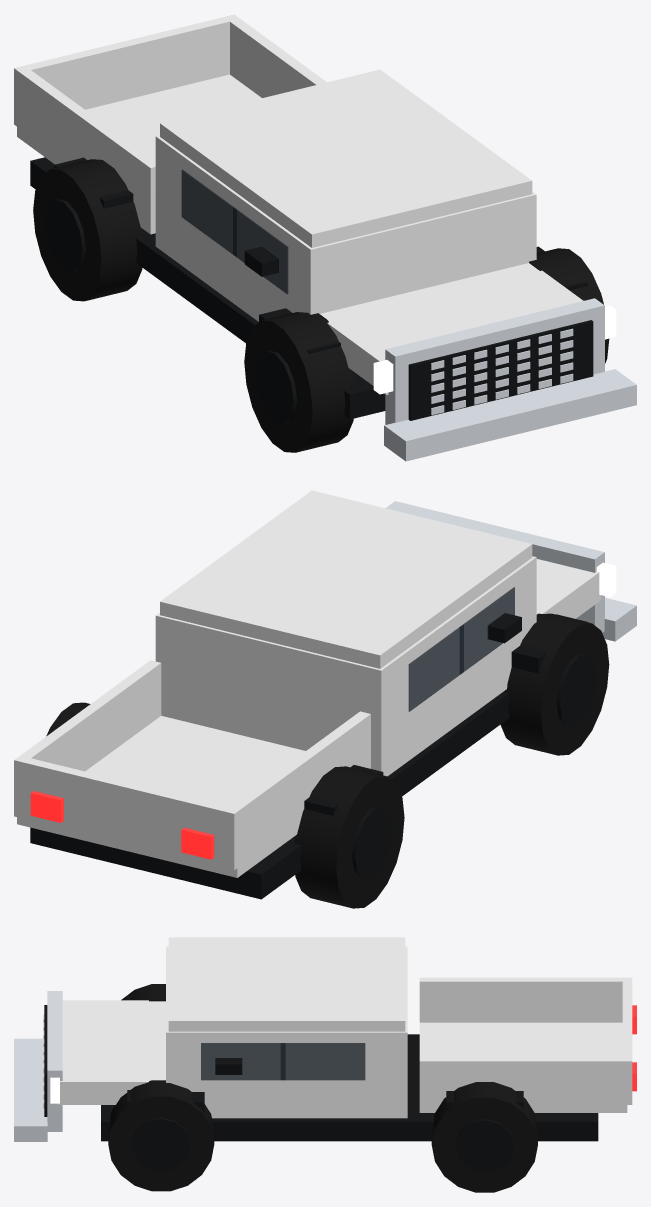
File: grr-grizzly.glb
The picture shows the model from 3 angles, top to bottom: view 1: azimuth 30°, elevation 25°; view 2: azimuth 150°, elevation 25°; view 3: azimuth 270°, elevation 25°; orthographic projection. The views are drawn at different scales.
Visible parts, largest first — view 1: chassis, wheel-front-left, wheel-back-left, wheel-front-right; view 2: chassis, wheel-back-left, wheel-front-left; view 3: chassis, wheel-back-right, wheel-front-right, wheel-front-left.
Part boxes in pixels (x1,y1,x2,y2): chassis: [14, 14, 636, 461]; wheel-front-left: [244, 312, 354, 452]; wheel-back-left: [33, 159, 142, 301]; wheel-front-right: [529, 248, 609, 363]; chassis: [14, 490, 636, 899]; wheel-back-left: [294, 766, 404, 908]; wheel-front-left: [500, 613, 609, 755]; chassis: [14, 937, 636, 1141]; wheel-back-right: [431, 1082, 537, 1192]; wheel-front-right: [108, 1080, 214, 1191]; wheel-front-left: [121, 984, 165, 1001].
Size of the model in its own units: 2.89 by 1.78 by 6.45.
